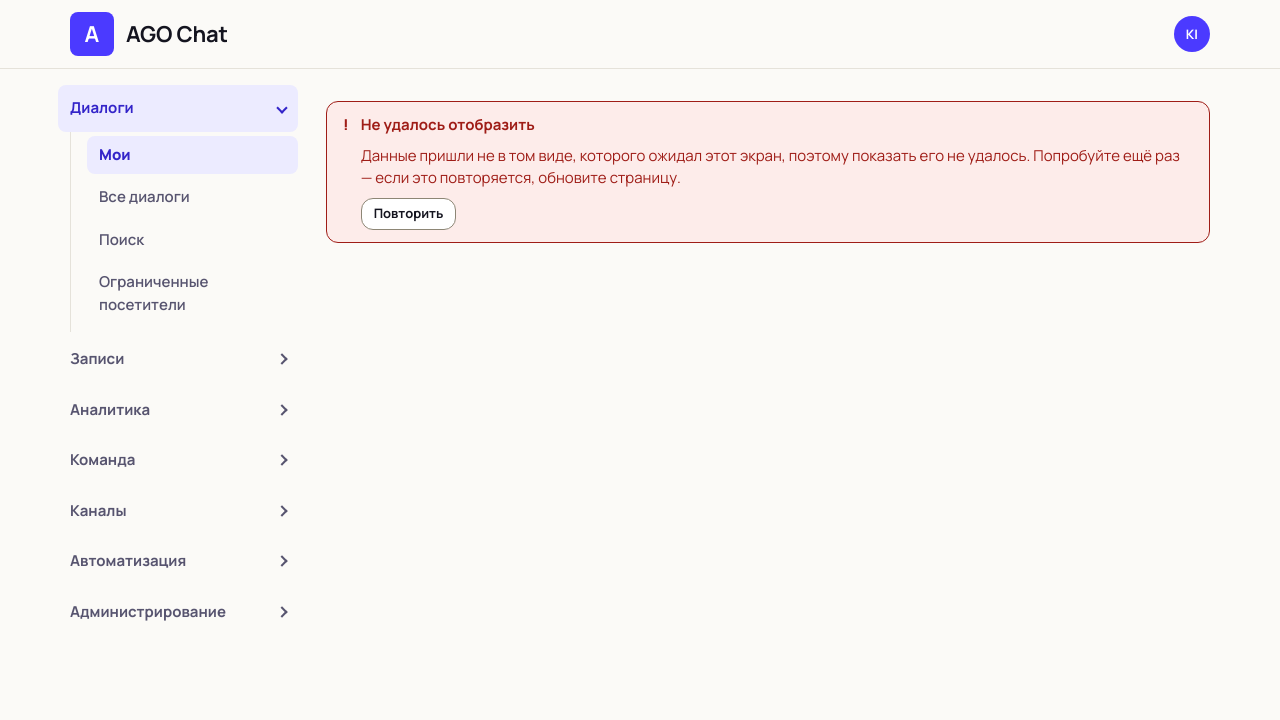
Test: the render-error boundary around OperatorShell's own <Outlet /> › clears once the operator navigates to a screen that works - it does not stay stuck on the old failure
Expected: the message with class "ago-alert--danger" is shown, [326, 101, 1210, 242]
Step 1. Click the link "Все диалоги" → coordinates (144, 196), box [99, 186, 190, 207]
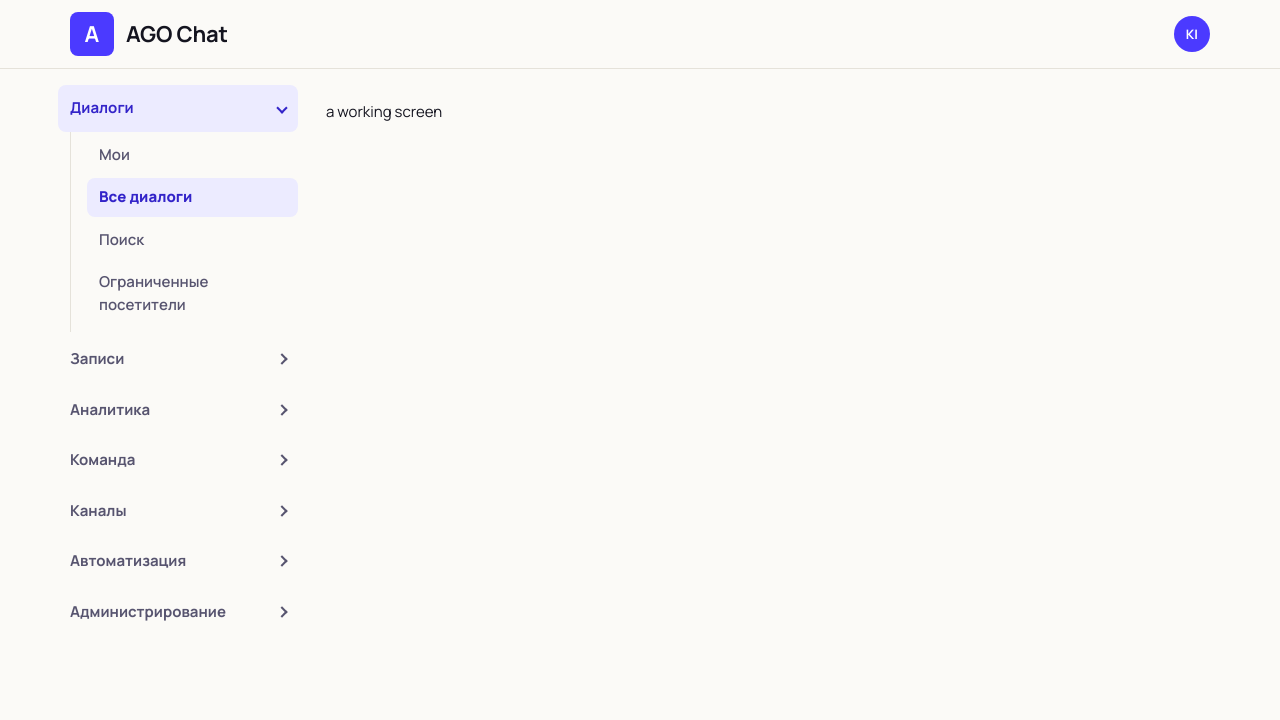
Expected: the text with test id "other-screen" reads "a working screen", [326, 101, 442, 122]
Expected: the message with class "ago-alert--danger" is gone
